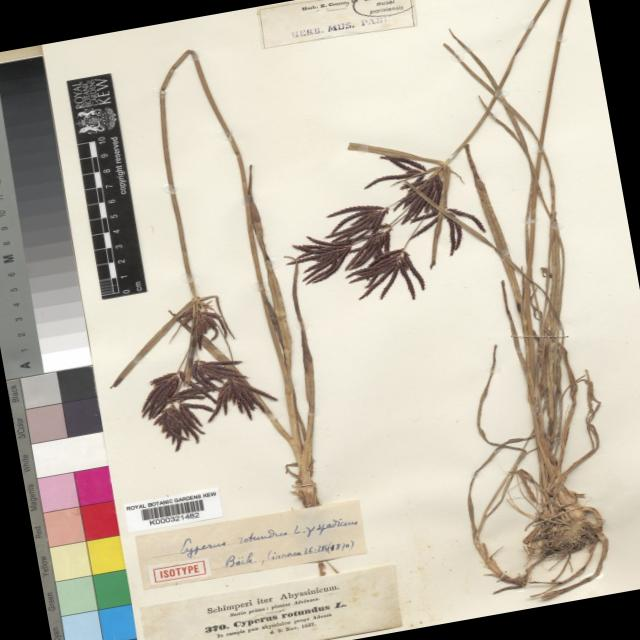cyperus: (94, 282, 290, 462), (275, 190, 429, 318), (364, 133, 486, 265)
